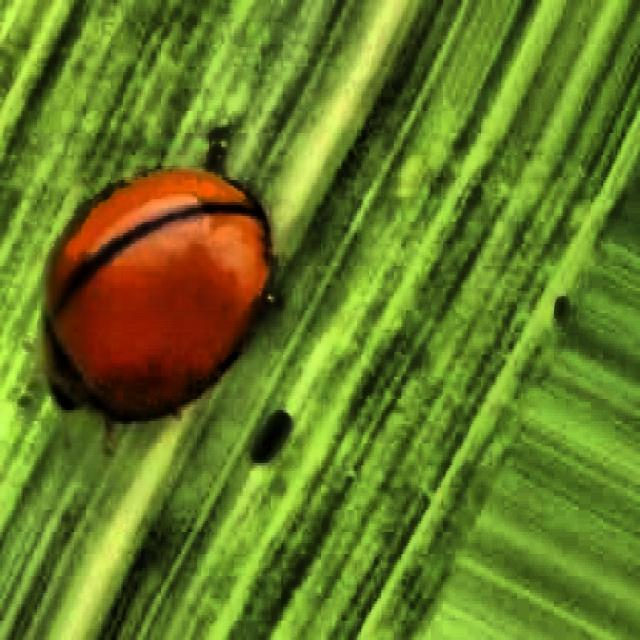Ladybug: (6, 77, 315, 512)
